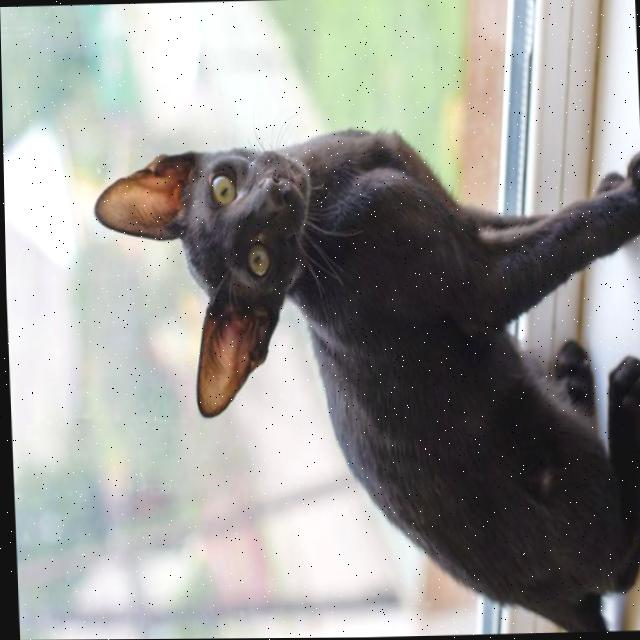Oriental: (83, 112, 640, 640)
